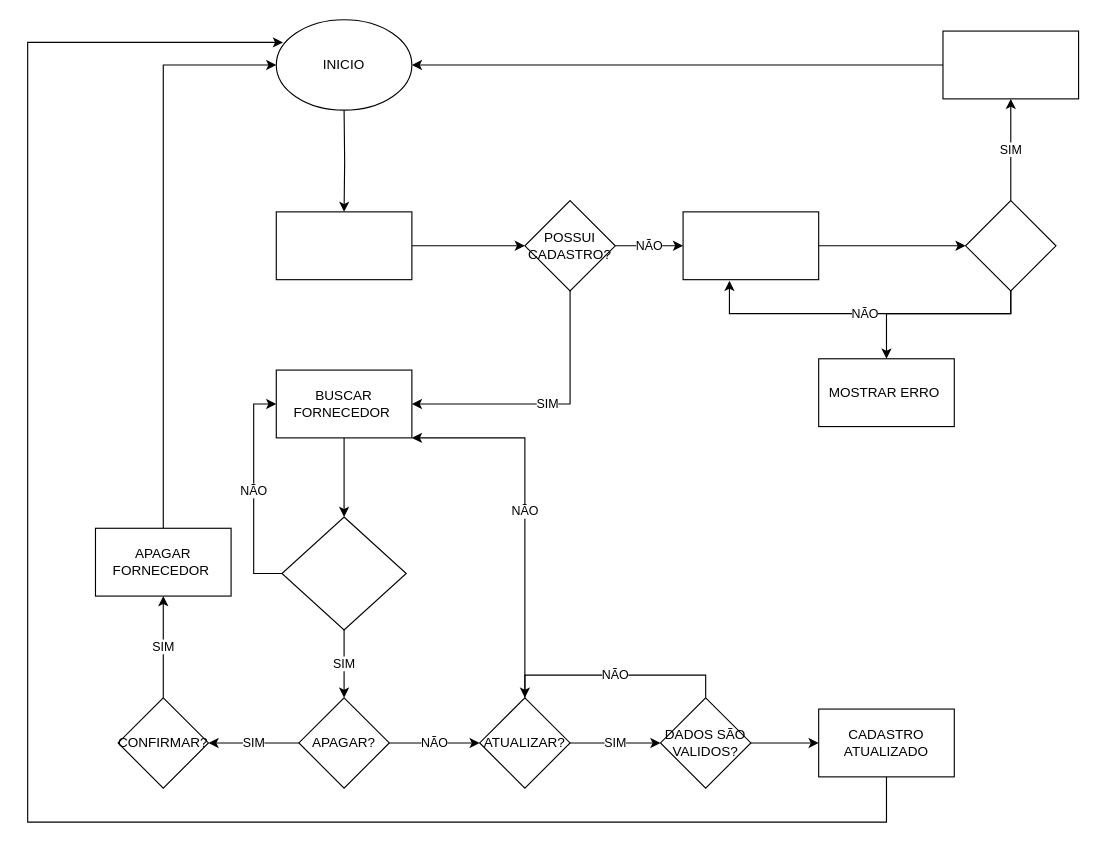
This 1098x851 diagram has some shape labels left out. Here are the shapes that lost their labels. From the top down, the centre of each, then its label:
At (x=1010, y=64): "CADASTRADO COM SUCESSO".
At (x=343, y=245): "LISTAR FORNECEDOR".
At (x=750, y=245): "CADASTRAR FORNECEDOR".
At (x=1010, y=245): "É VALIDO?".
At (x=343, y=573): "FORNECEDOR ENCONTRADO?".
